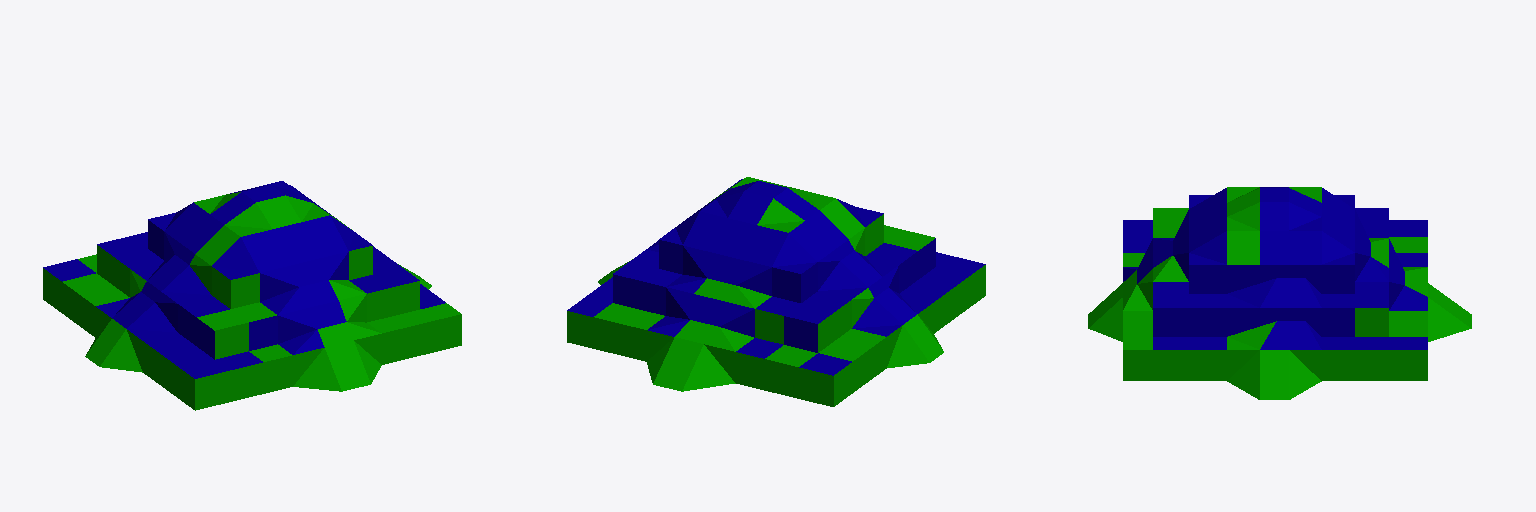
Rendered from maison4.obj.
3 views of the same model, side by side, from view 1: azimuth 30°, elevation 25°; view 2: azimuth 150°, elevation 25°; view 3: azimuth 270°, elevation 25° (orthographic).
Visible parts, largest first — view 1: Cube; view 2: Cube; view 3: Cube.
Part boxes in pixels (x1,y1,x2,y2): Cube: (43,181,461,410); Cube: (567,177,985,406); Cube: (1088,187,1471,399).
Bounding box in the file's own units: 10.6 × 3.85 × 10.57.